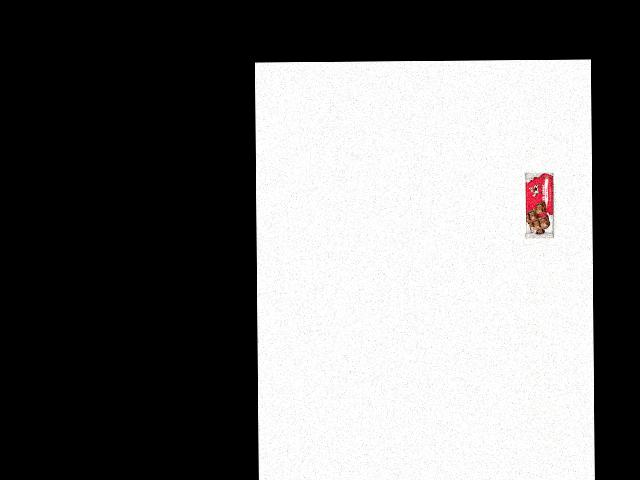chocolate: (528, 161, 569, 239)
